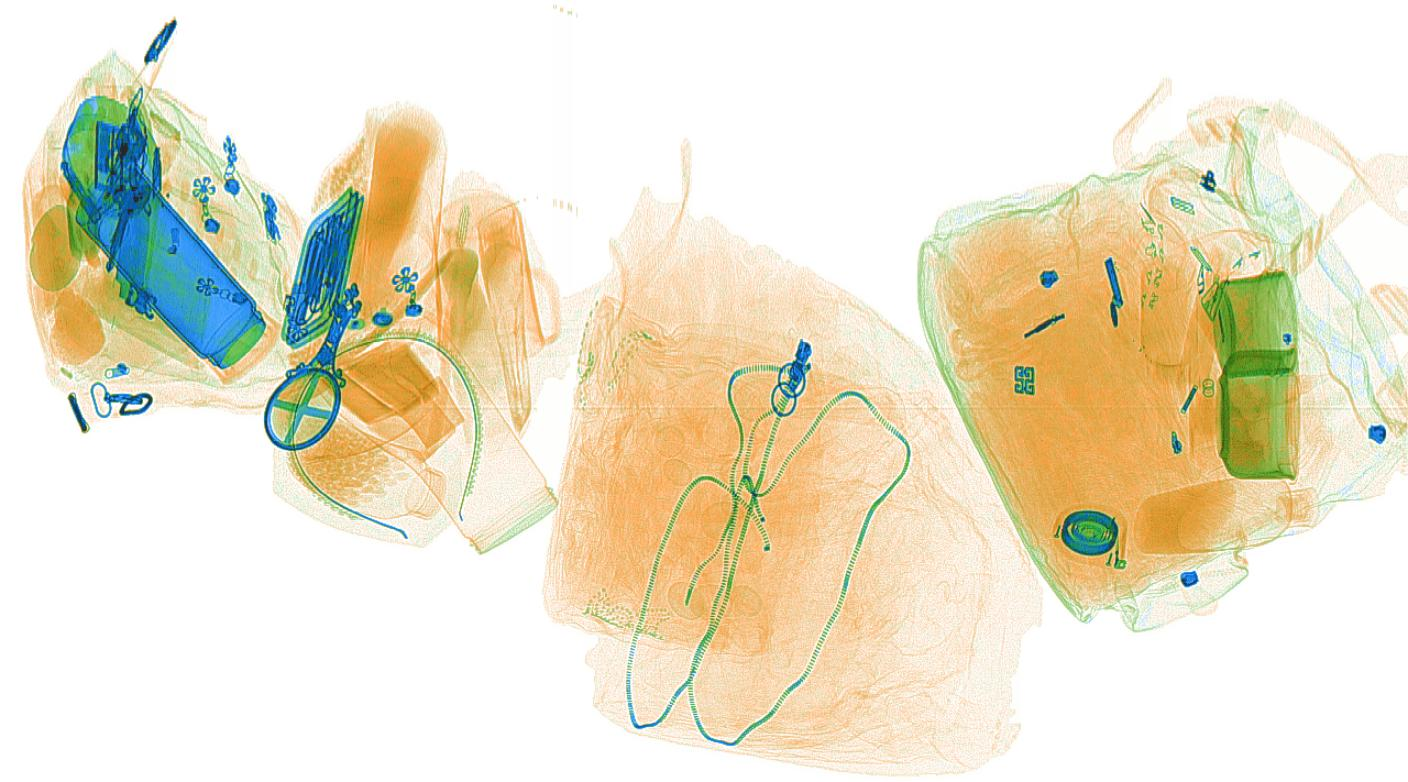knife: (113, 178, 154, 306)
plasticBottleWithaNozzle: (1177, 244, 1232, 396), (1187, 363, 1226, 467)
scissors: (292, 214, 333, 326)
